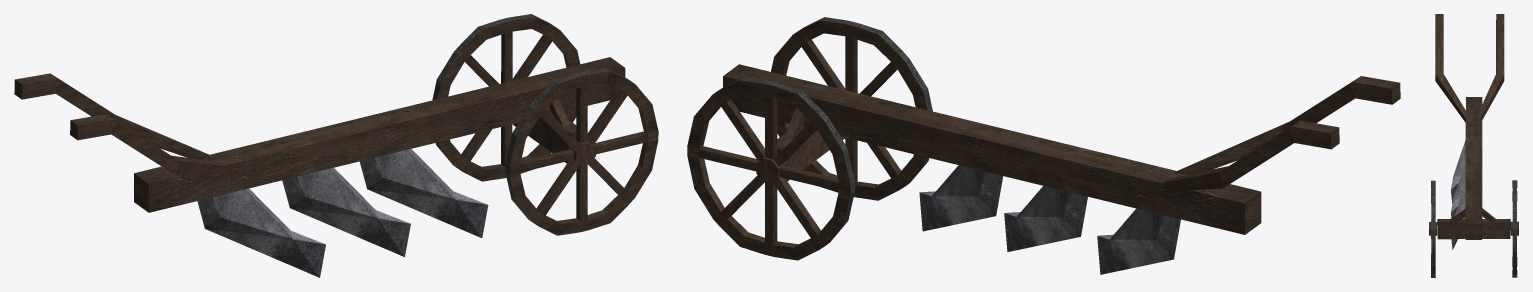
The model's file is STATIC_GS_FURNITURE_PLOW_01_KWIATEK.glb.
3 views of the same model, side by side, from view 1: azimuth 30°, elevation 25°; view 2: azimuth 150°, elevation 25°; view 3: azimuth 270°, elevation 25° (orthographic). The views are drawn at different scales.
Visible parts, largest first — view 1: STATIC_GS_FURNITURE_PLOW_01_KWIATEK; view 2: STATIC_GS_FURNITURE_PLOW_01_KWIATEK; view 3: STATIC_GS_FURNITURE_PLOW_01_KWIATEK.
Boxes of the visible parts, box(x1,y1,x2,y2) form: STATIC_GS_FURNITURE_PLOW_01_KWIATEK: box(14, 14, 658, 277); STATIC_GS_FURNITURE_PLOW_01_KWIATEK: box(687, 17, 1400, 274); STATIC_GS_FURNITURE_PLOW_01_KWIATEK: box(1429, 14, 1518, 277).
Size of the model in its own units: 2.44 by 0.917 by 0.6003.
Materials: 2 (2 with a texture image).
